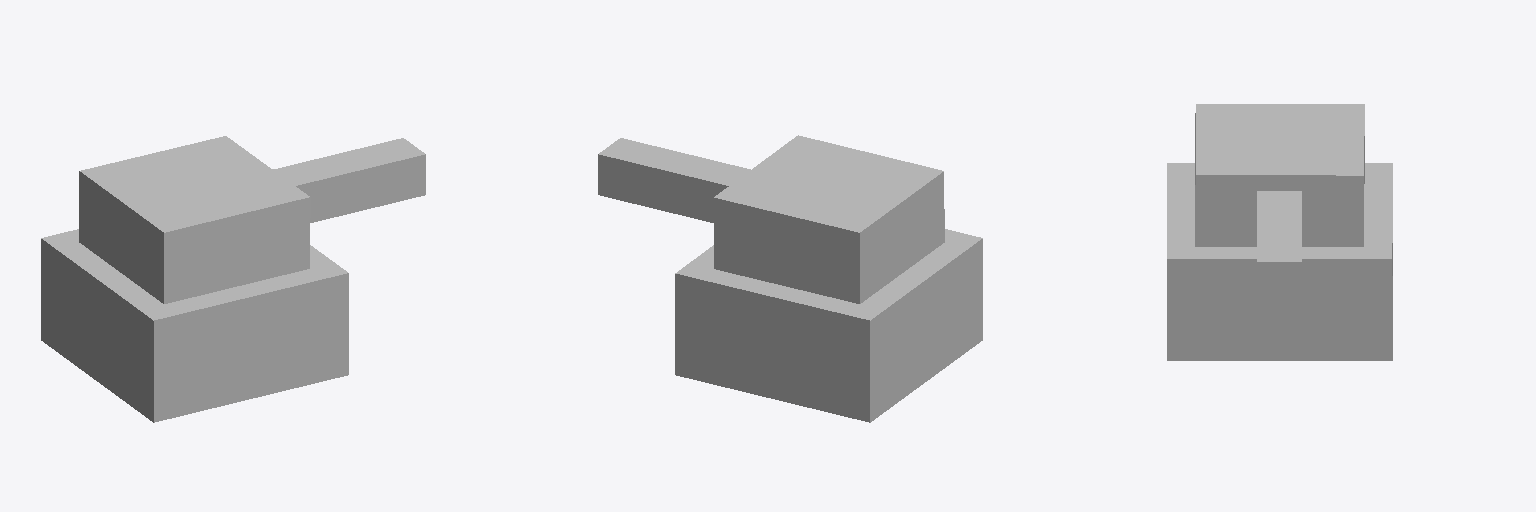
Rendered from tower.obj.
3 renders of one model, left to right at view 1: azimuth 30°, elevation 25°; view 2: azimuth 150°, elevation 25°; view 3: azimuth 270°, elevation 25°, orthographic.
Parts seen in each view (by area): view 1: Cube; view 2: Cube; view 3: Cube.
Part boxes in pixels (left/top/right/bottom): Cube: left=41, top=136, right=425, bottom=422; Cube: left=598, top=135, right=982, bottom=422; Cube: left=1167, top=104, right=1392, bottom=360.
Bounding box in the file's own units: 3.25 × 1.7 × 2.